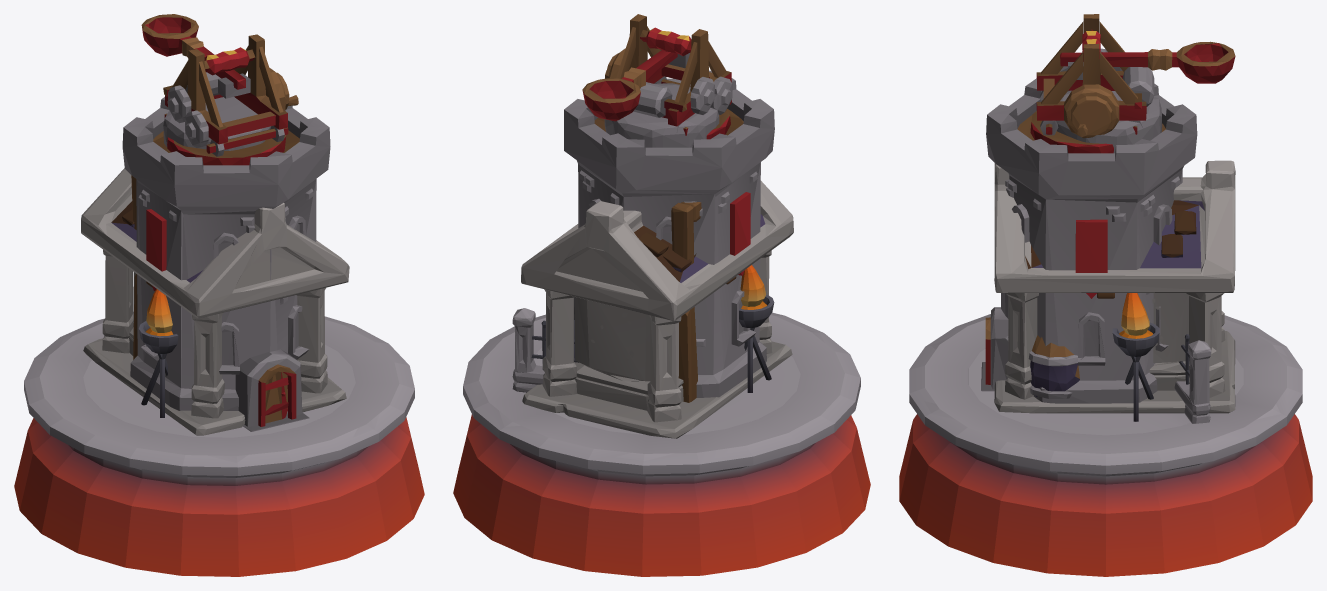
Rendered from fortress-s11-uxZ1VvFH.glb.
3 views of the same model, side by side, from view 1: azimuth 30°, elevation 25°; view 2: azimuth 150°, elevation 25°; view 3: azimuth 270°, elevation 25° (orthographic).
Parts seen in each view (by area): view 1: sc_z1_0, sc_z2_0, sc_z0_0, sc_z2_1; view 2: sc_z1_0, sc_z2_0, sc_z0_0, sc_z2_1; view 3: sc_z2_0, sc_z1_0, sc_z0_0, sc_z2_1.
Part boxes in pixels (x1,y1,x2,y2): sc_z1_0: [14, 168, 424, 576]; sc_z2_0: [16, 14, 421, 561]; sc_z0_0: [83, 175, 355, 437]; sc_z2_1: [139, 97, 270, 417]; sc_z1_0: [453, 180, 870, 576]; sc_z2_0: [457, 14, 868, 560]; sc_z0_0: [512, 202, 800, 434]; sc_z2_1: [574, 83, 774, 392]; sc_z2_0: [913, 14, 1298, 576]; sc_z1_0: [899, 160, 1312, 567]; sc_z0_0: [968, 334, 1243, 435]; sc_z2_1: [1056, 90, 1162, 421].
Size of the model in its own units: 13.86 by 16.77 by 13.72.
